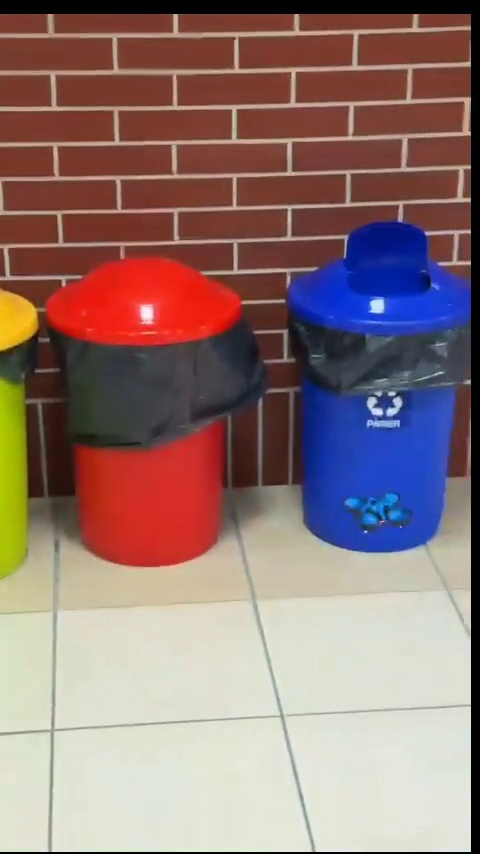drone: (348, 495, 410, 535)
